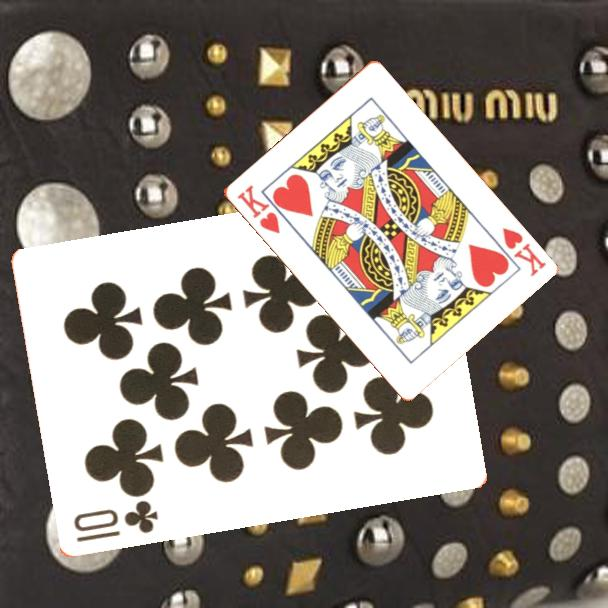c10: (69, 498, 161, 546)
h13: (498, 224, 549, 280), (233, 181, 283, 237)
